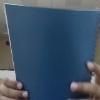notebook: (3, 2, 99, 99)
